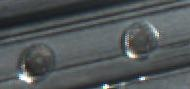joints: (16, 42, 60, 84), (120, 21, 162, 61)
